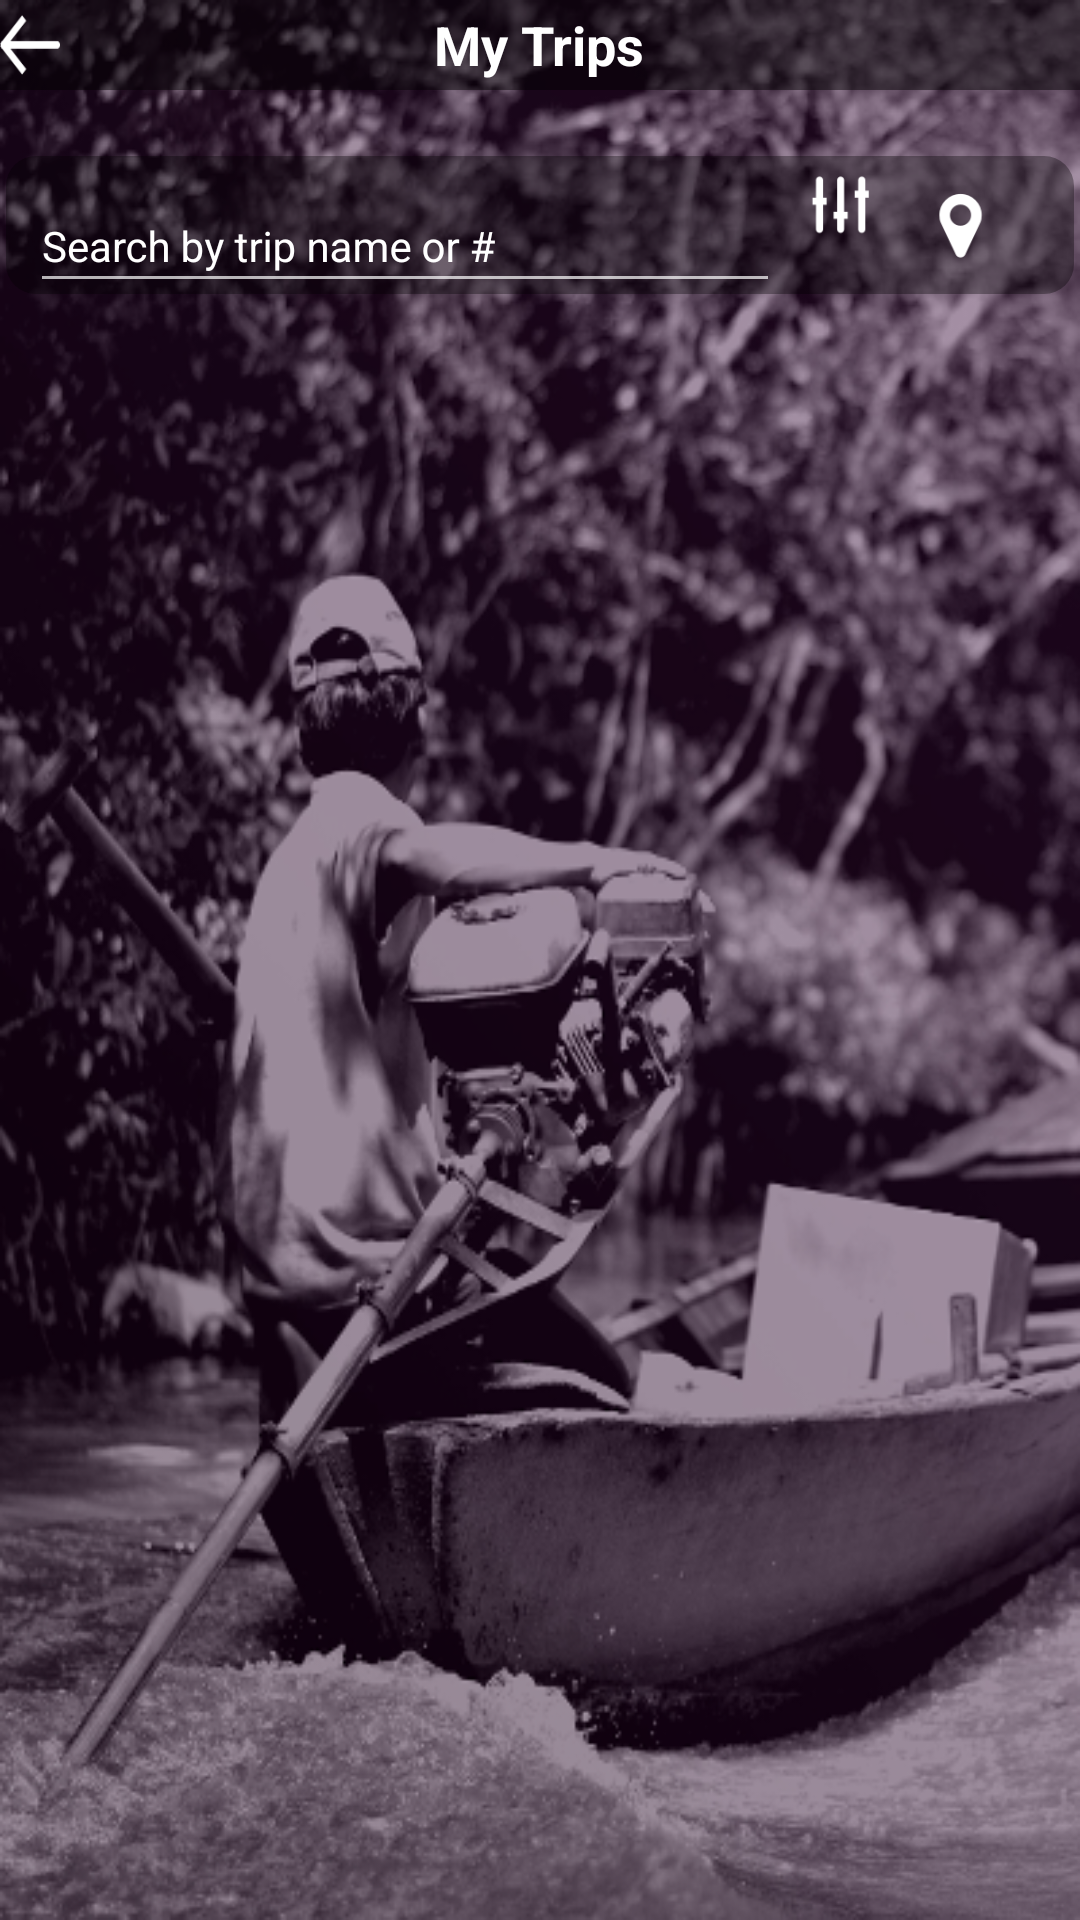

Icons on this 1080 × 1920 Android screen, each with the point to tap as (x,y):
back arrow: (30,45)
